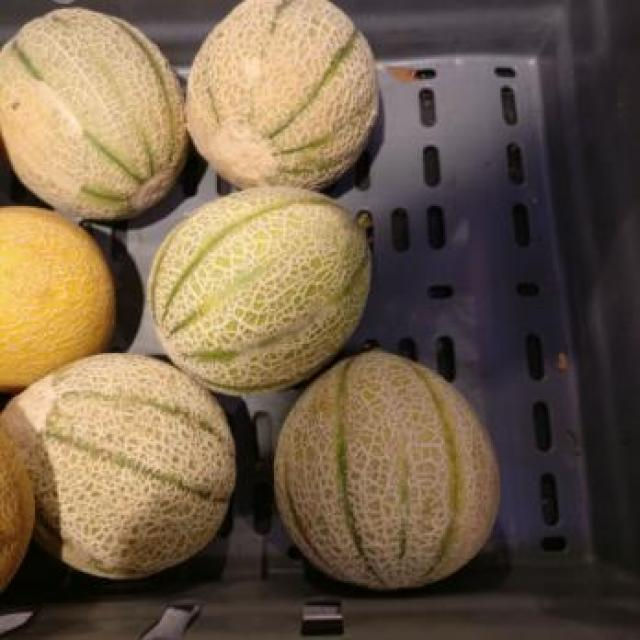Cantaloupe: (274, 350, 502, 592), (0, 355, 237, 579), (147, 190, 373, 399), (0, 9, 184, 219), (185, 0, 382, 188), (0, 208, 118, 393)
